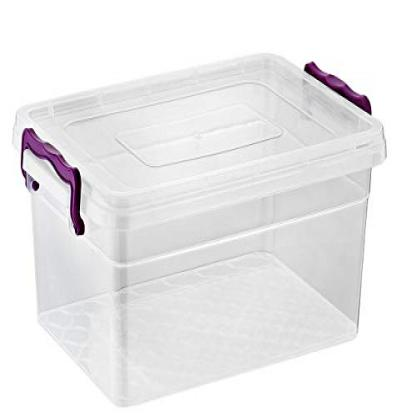plastic_box: (7, 22, 398, 411)
